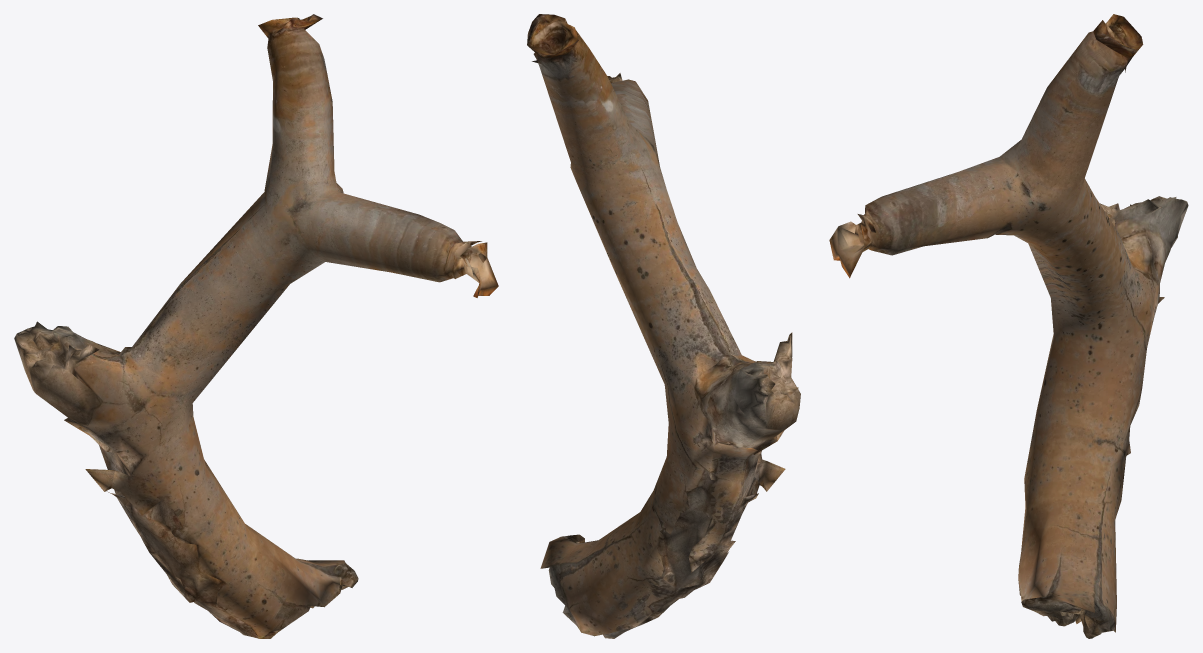
The model's file is dead-branch.glb.
3 renders of one model, left to right at view 1: azimuth 30°, elevation 25°; view 2: azimuth 150°, elevation 25°; view 3: azimuth 270°, elevation 25°, orthographic. The views are drawn at different scales.
Parts seen in each view (by area): view 1: dead_quiver_branch_01; view 2: dead_quiver_branch_01; view 3: dead_quiver_branch_01.
Part boxes in pixels (x1=…): dead_quiver_branch_01: x1=14, y1=14, x2=498, y2=638; dead_quiver_branch_01: x1=527, y1=14, x2=800, y2=638; dead_quiver_branch_01: x1=829, y1=14, x2=1188, y2=638.
Bounding box in the file's own units: 0.253 × 0.4384 × 0.2258.
Materials: 1 (1 with a texture image).
